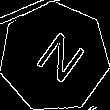N_SW: (24, 25, 85, 90)
